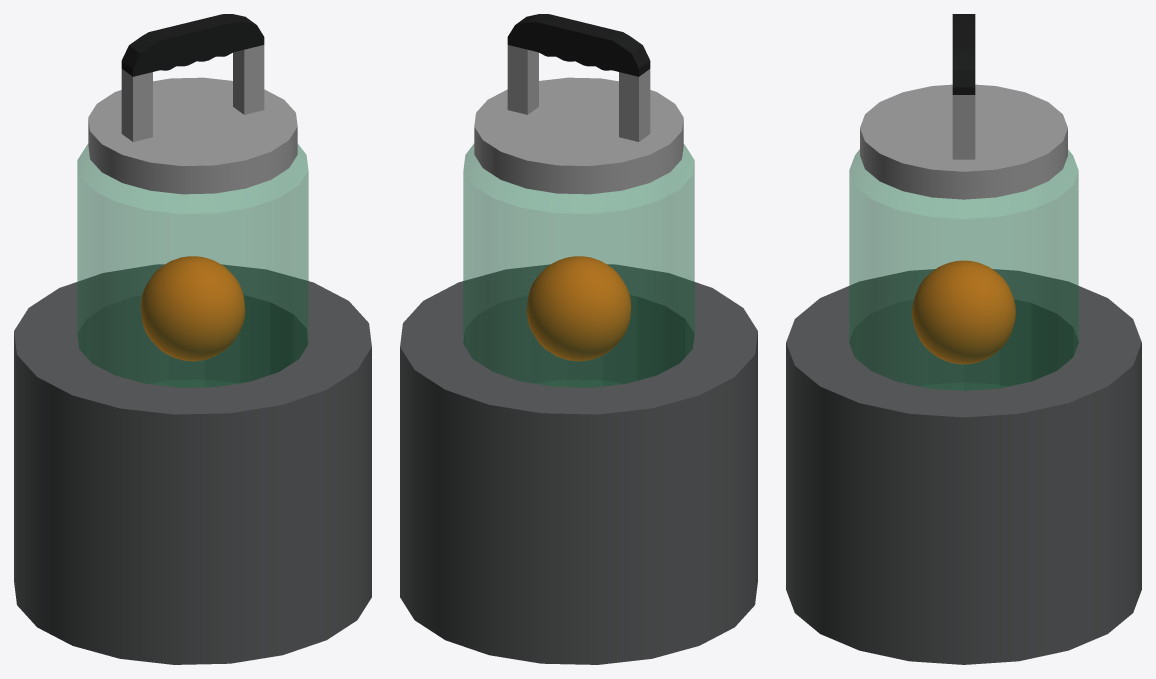
File: canister.fbx
3 views of the same model, side by side, from view 1: azimuth 30°, elevation 25°; view 2: azimuth 150°, elevation 25°; view 3: azimuth 270°, elevation 25° (orthographic).
Visible parts, largest first — view 1: canister_plug, pCylinder8, pCube14, pSphere1; view 2: canister_plug, pCylinder8, pCube14, pSphere1; view 3: canister_plug, pCylinder8, pSphere1, pCube14.
Part boxes in pixels (x1,y1,x2,y2): canister_plug: (14,264,371,664); pCylinder8: (77,77,308,387); pCube14: (121,14,264,141); pSphere1: (140,256,245,361); canister_plug: (400,264,757,664); pCylinder8: (463,77,694,387); pCube14: (507,14,650,141); pSphere1: (526,256,631,361); canister_plug: (786,269,1141,664); pCylinder8: (849,84,1078,390); pSphere1: (912,260,1015,364); pCube14: (952,14,975,159).
Bounding box in the file's own units: 6.84 × 11.79 × 6.84.
